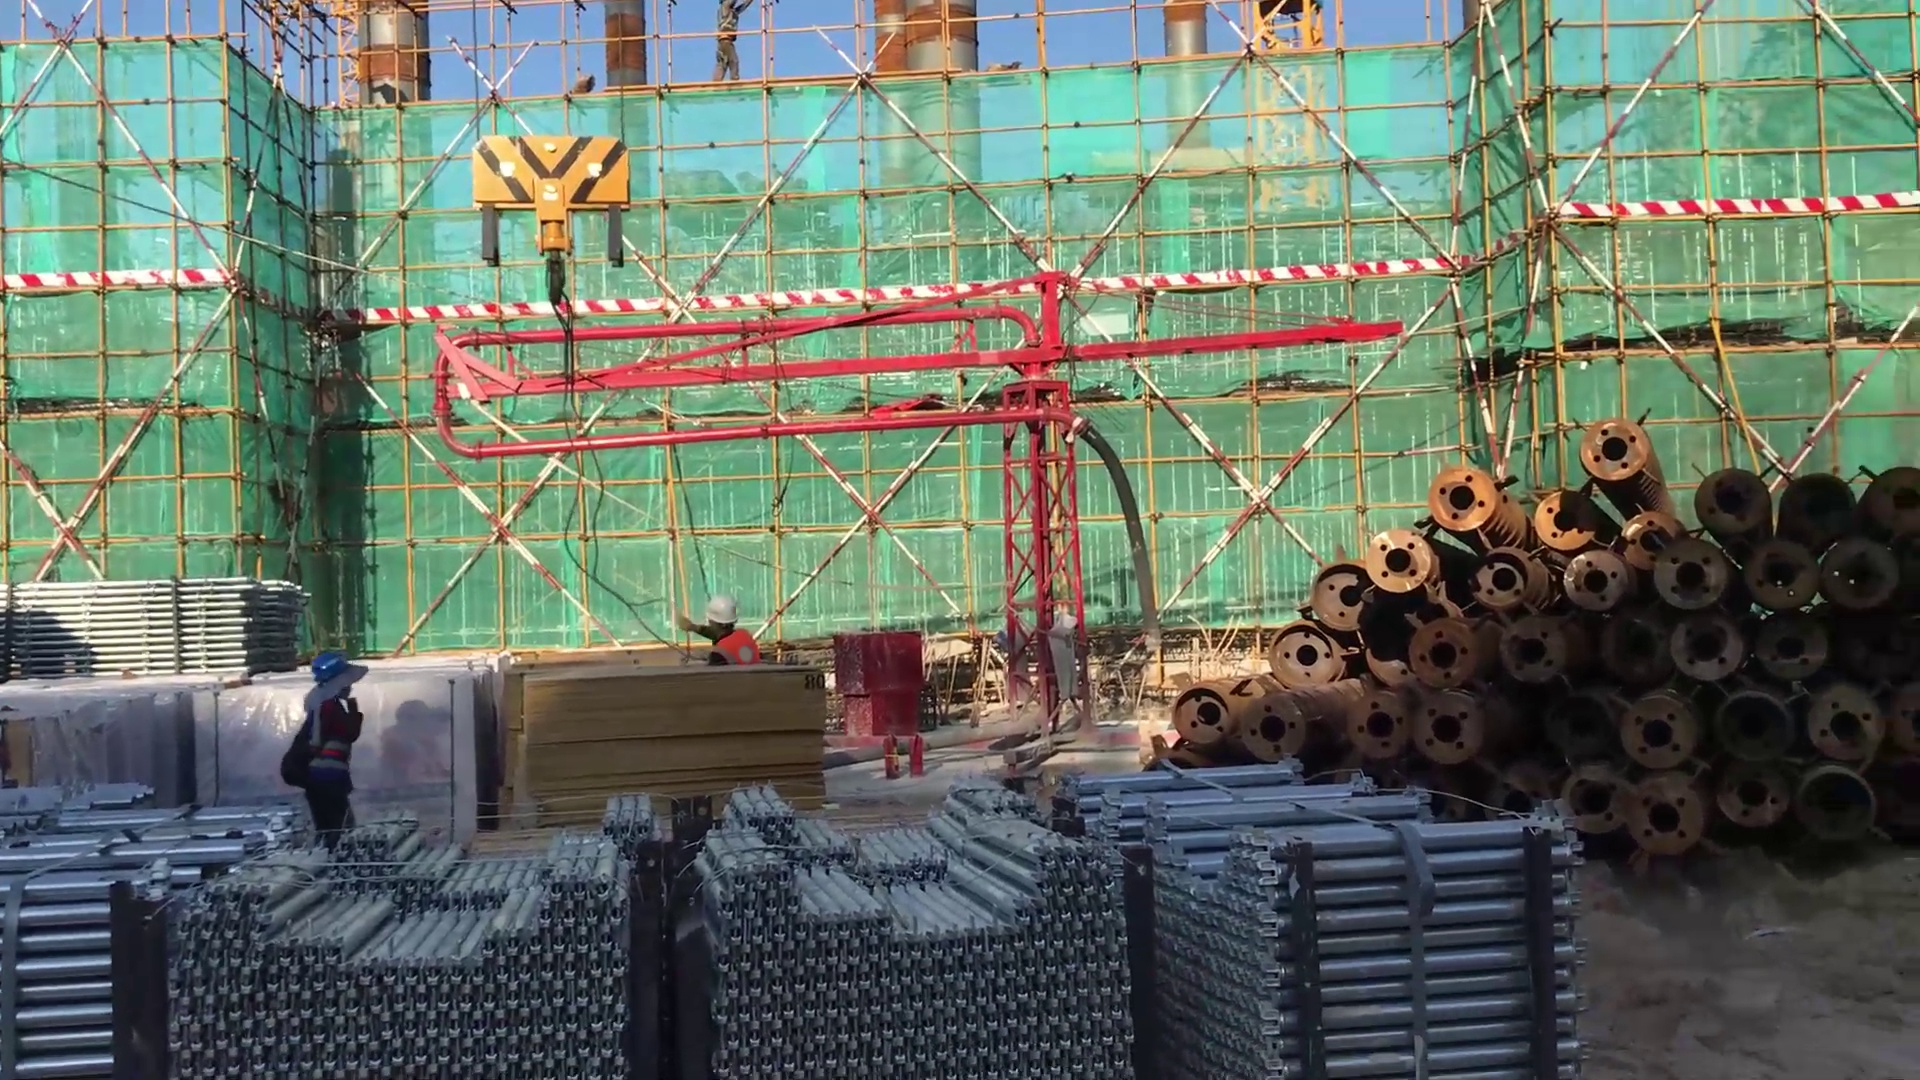board: (495, 668, 830, 823)
helmet: (302, 640, 368, 687), (698, 595, 748, 647)
hook: (448, 117, 651, 334)
person: (274, 645, 375, 861), (667, 587, 764, 680), (703, 1, 745, 100)
scaffold: (1066, 760, 1632, 1080), (680, 753, 1140, 1080), (152, 805, 669, 1080), (1, 769, 276, 1080), (11, 557, 302, 695)
vest: (294, 695, 356, 797), (704, 626, 765, 672), (713, 7, 742, 43)
